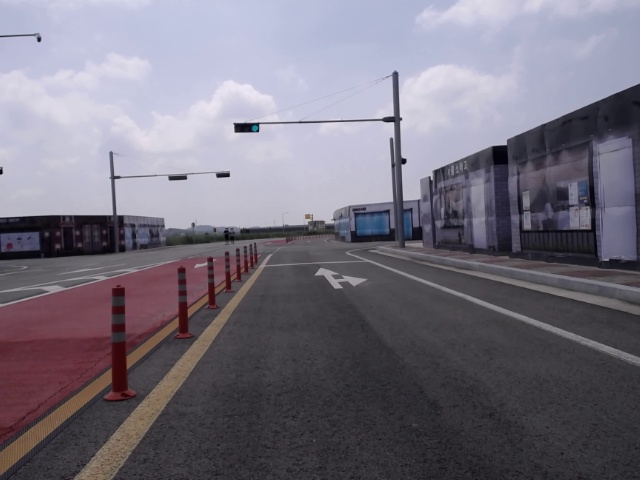green_3: (234, 123, 260, 133)
